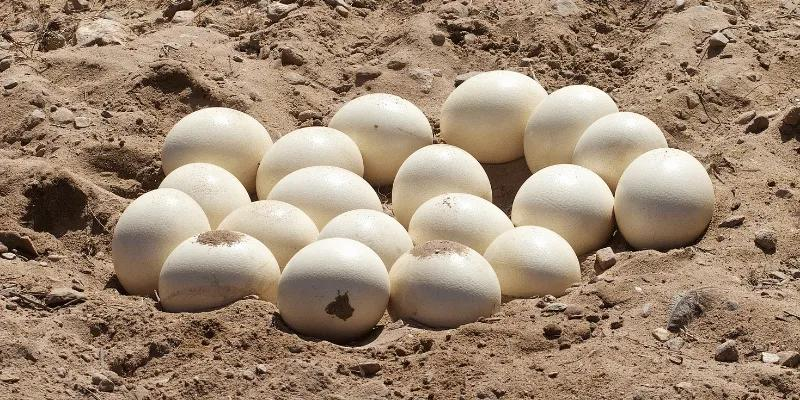egg: (276, 234, 392, 336), (106, 179, 208, 293), (616, 146, 714, 252), (391, 234, 501, 328), (442, 69, 550, 162), (334, 89, 434, 178), (162, 228, 276, 306), (161, 100, 272, 180), (516, 163, 616, 239)
